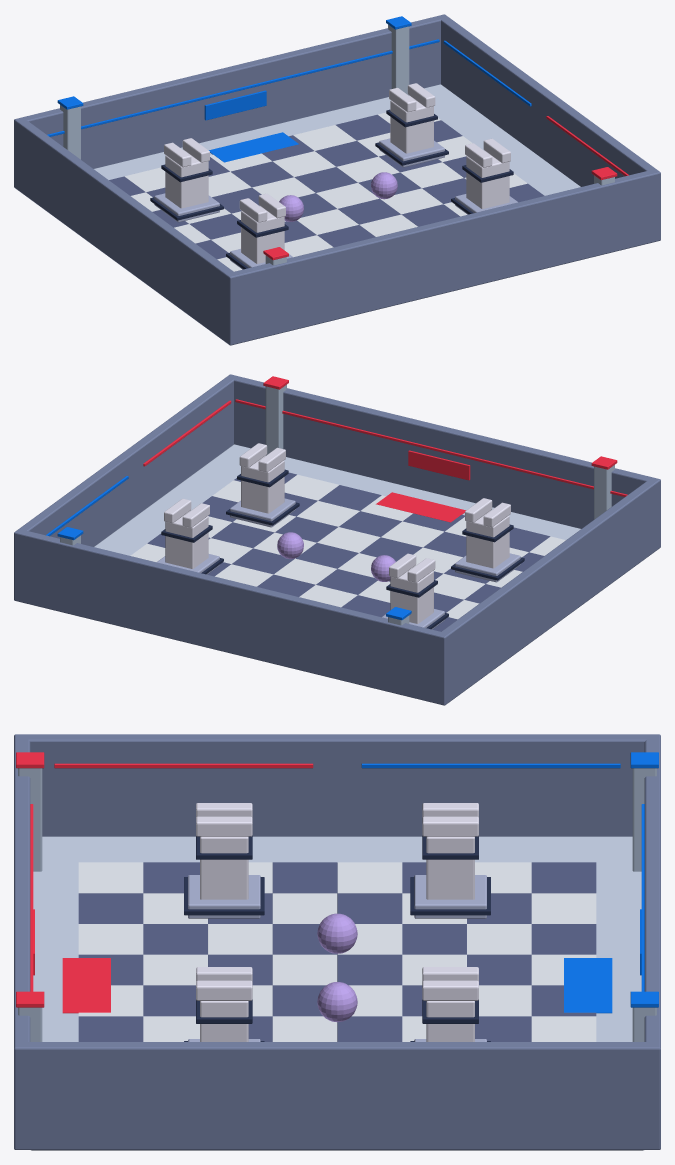
File: Xadrez.glb
3 renders of one model, top to bottom at view 1: azimuth 30°, elevation 25°; view 2: azimuth 150°, elevation 25°; view 3: azimuth 270°, elevation 25°, orthographic. The views are drawn at different scales.
Parts seen in each view (by area): view 1: Xadrez_PB_7986ac, Xadrez_PB_eaf0fa, Xadrez_PB_5b658e, Xadrez_PB_e9e8fa, Xadrez_PB_cbd7ee, Xadrez_PB_087bff, Xadrez_PB_b5c6df, Xadrez_PB_273354, Xadrez_PB_adb6d9, Xadrez_PB_b9a0eb, Xadrez_PB_ff304b; view 2: Xadrez_PB_7986ac, Xadrez_PB_5b658e, Xadrez_PB_eaf0fa, Xadrez_PB_e9e8fa, Xadrez_PB_cbd7ee, Xadrez_PB_ff304b, Xadrez_PB_b5c6df, Xadrez_PB_273354, Xadrez_PB_adb6d9, Xadrez_PB_b9a0eb, Xadrez_PB_087bff; view 3: Xadrez_PB_7986ac, Xadrez_PB_5b658e, Xadrez_PB_eaf0fa, Xadrez_PB_cbd7ee, Xadrez_PB_e9e8fa, Xadrez_PB_087bff, Xadrez_PB_ff304b, Xadrez_PB_273354, Xadrez_PB_b5c6df, Xadrez_PB_adb6d9, Xadrez_PB_b9a0eb.
Boxes of the visible parts, x1=… form: Xadrez_PB_7986ac: x1=14, y1=14, x2=660, y2=345; Xadrez_PB_eaf0fa: x1=124, y1=112, x2=527, y2=271; Xadrez_PB_5b658e: x1=109, y1=114, x2=544, y2=259; Xadrez_PB_e9e8fa: x1=164, y1=83, x2=510, y2=263; Xadrez_PB_cbd7ee: x1=94, y1=84, x2=580, y2=195; Xadrez_PB_087bff: x1=47, y1=16, x2=531, y2=162; Xadrez_PB_b5c6df: x1=60, y1=24, x2=614, y2=265; Xadrez_PB_273354: x1=150, y1=109, x2=513, y2=269; Xadrez_PB_adb6d9: x1=154, y1=138, x2=517, y2=269; Xadrez_PB_b9a0eb: x1=279, y1=172, x2=397, y2=221; Xadrez_PB_ff304b: x1=263, y1=116, x2=628, y2=260; Xadrez_PB_7986ac: x1=14, y1=374, x2=660, y2=705; Xadrez_PB_5b658e: x1=147, y1=472, x2=550, y2=631; Xadrez_PB_eaf0fa: x1=130, y1=474, x2=565, y2=619; Xadrez_PB_e9e8fa: x1=164, y1=443, x2=510, y2=623; Xadrez_PB_cbd7ee: x1=94, y1=444, x2=580, y2=555; Xadrez_PB_ff304b: x1=143, y1=376, x2=627, y2=522; Xadrez_PB_b5c6df: x1=60, y1=384, x2=614, y2=625; Xadrez_PB_273354: x1=161, y1=469, x2=524, y2=629; Xadrez_PB_adb6d9: x1=157, y1=498, x2=520, y2=629; Xadrez_PB_b9a0eb: x1=277, y1=532, x2=395, y2=581; Xadrez_PB_087bff: x1=46, y1=476, x2=411, y2=620; Xadrez_PB_7986ac: x1=14, y1=734, x2=660, y2=1149; Xadrez_PB_5b658e: x1=78, y1=862, x2=596, y2=1041; Xadrez_PB_eaf0fa: x1=78, y1=862, x2=596, y2=1041; Xadrez_PB_cbd7ee: x1=31, y1=836, x2=643, y2=1150; Xadrez_PB_e9e8fa: x1=196, y1=803, x2=478, y2=1041; Xadrez_PB_087bff: x1=361, y1=752, x2=658, y2=1013; Xadrez_PB_ff304b: x1=16, y1=752, x2=313, y2=1013; Xadrez_PB_273354: x1=184, y1=835, x2=490, y2=1041; Xadrez_PB_b5c6df: x1=18, y1=768, x2=656, y2=1041; Xadrez_PB_adb6d9: x1=188, y1=875, x2=486, y2=1041; Xadrez_PB_b9a0eb: x1=317, y1=913, x2=357, y2=1022.
Bounding box in the file's own units: 25.76 × 4.7 × 22.4.
